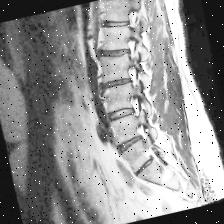disc: (98, 10, 138, 37), (96, 40, 135, 66), (105, 102, 142, 127)
hdisc: (98, 69, 138, 96), (114, 131, 150, 156), (129, 154, 162, 180)
